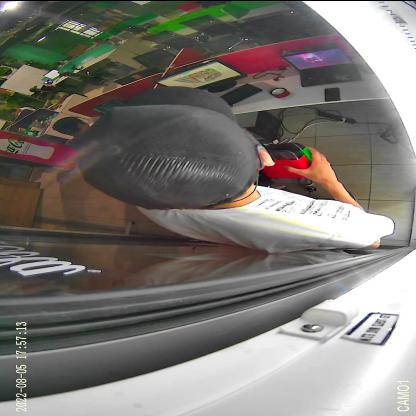green: (262, 141, 312, 164)
red: (262, 149, 314, 185)
